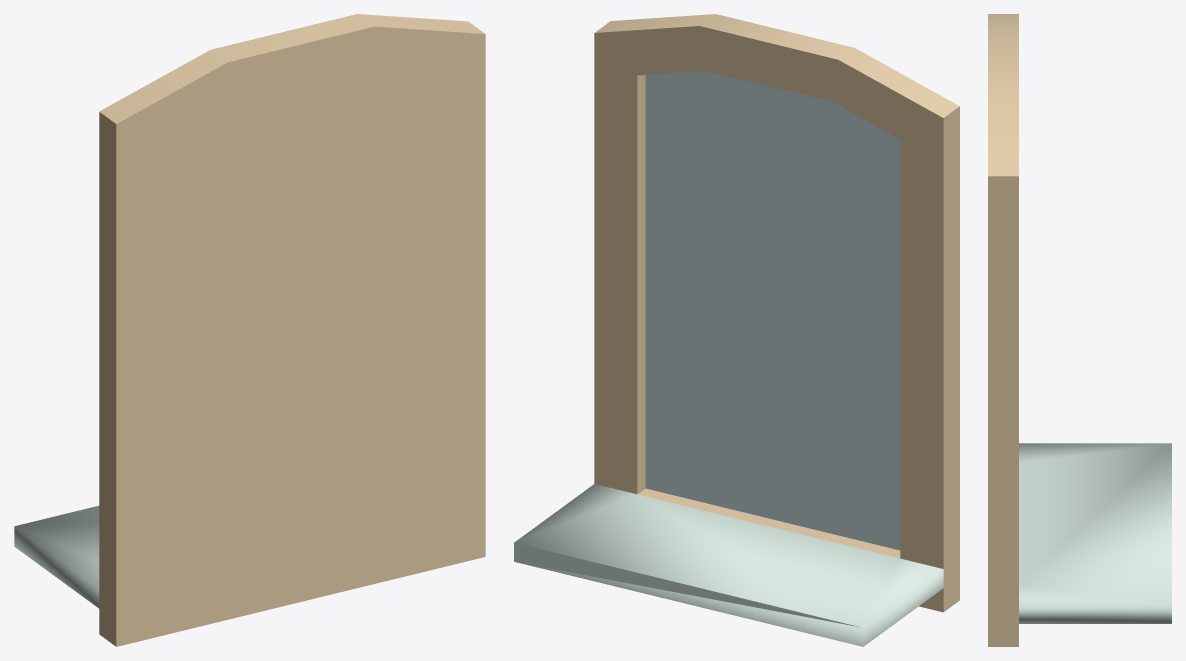
Rendered from bathroomMirror.glb.
3 renders of one model, left to right at view 1: azimuth 30°, elevation 25°; view 2: azimuth 150°, elevation 25°; view 3: azimuth 270°, elevation 25°, orthographic. The views are drawn at different scales.
Parts seen in each view (by area): view 1: bathroomMirror; view 2: bathroomMirror; view 3: bathroomMirror.
Boxes of the visible parts, bbox=[...] form: bathroomMirror: bbox=[14, 14, 485, 646]; bathroomMirror: bbox=[514, 14, 959, 646]; bathroomMirror: bbox=[988, 14, 1171, 646].
Bounding box in the file's own units: 3.01 × 4.35 × 1.44.
